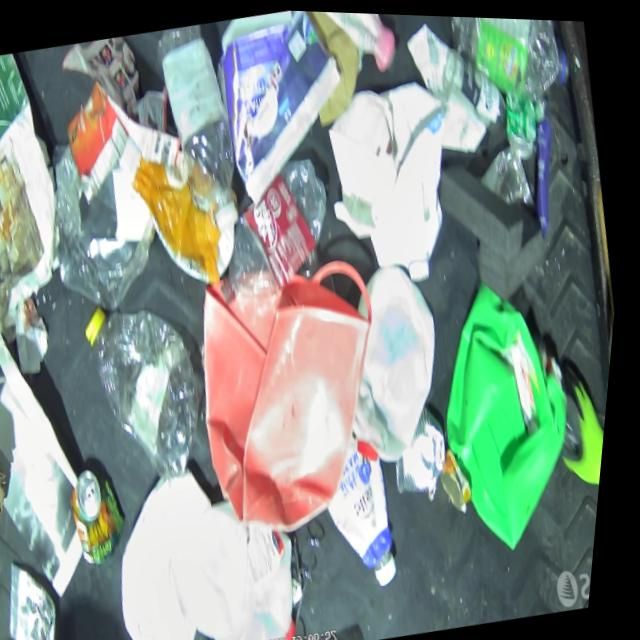can: (55, 73, 148, 208), (69, 459, 148, 571), (389, 397, 468, 507), (7, 553, 82, 640), (475, 137, 545, 213), (498, 83, 548, 162), (440, 440, 490, 516)
milk_jug: (324, 252, 472, 472), (340, 69, 482, 291), (104, 452, 256, 640), (181, 484, 327, 640)
non_white_jug: (174, 222, 424, 549), (418, 263, 610, 559)
plastic_bottle: (74, 287, 230, 498), (139, 18, 261, 242), (200, 145, 354, 314), (437, 13, 583, 120), (432, 35, 518, 138)
